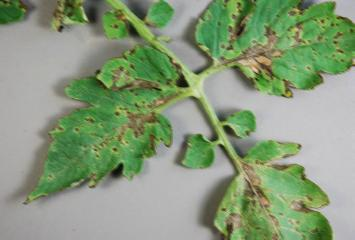Tomato Septoria leaf spot: (18, 47, 182, 216), (191, 1, 354, 108), (209, 139, 340, 239)
